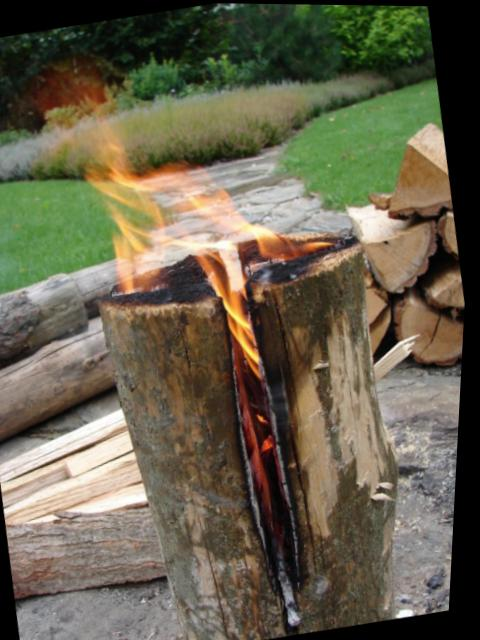fire: (17, 44, 440, 538)
